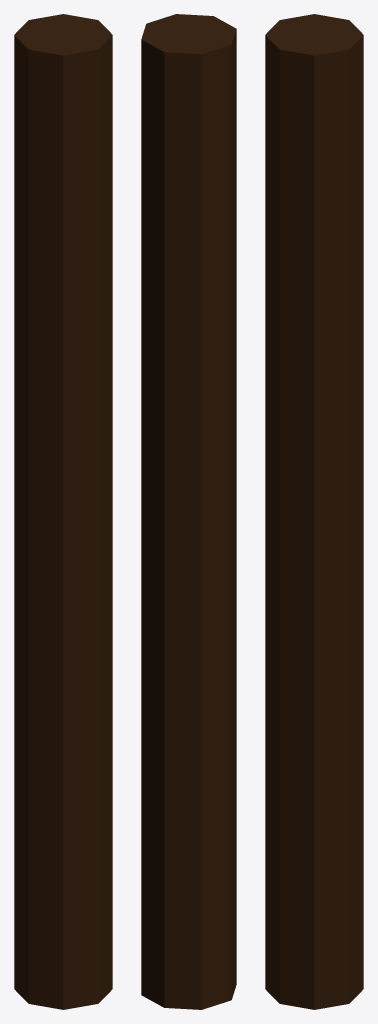
The model's file is Pier_01.fbx.
The picture shows the model from 3 angles, left to right: view 1: azimuth 90°, elevation 25°; view 2: azimuth 150°, elevation 25°; view 3: azimuth 270°, elevation 25°; orthographic projection.
Visible parts, largest first — view 1: Cylinder.002; view 2: Cylinder.002; view 3: Cylinder.002.
Part boxes in pixels (x1,y1,x2,y2): Cylinder.002: (14, 14, 112, 1009); Cylinder.002: (141, 14, 236, 1009); Cylinder.002: (265, 14, 363, 1009).
Size of the model in its own units: 18.73 by 18.73 by 200.
